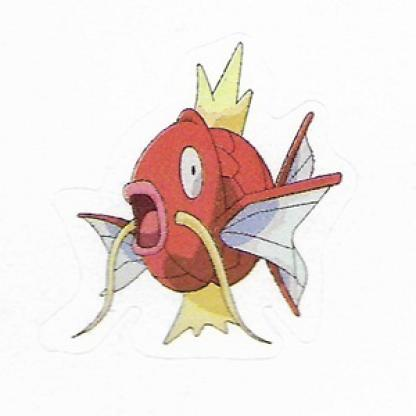Magikarp: (59, 40, 340, 356)
